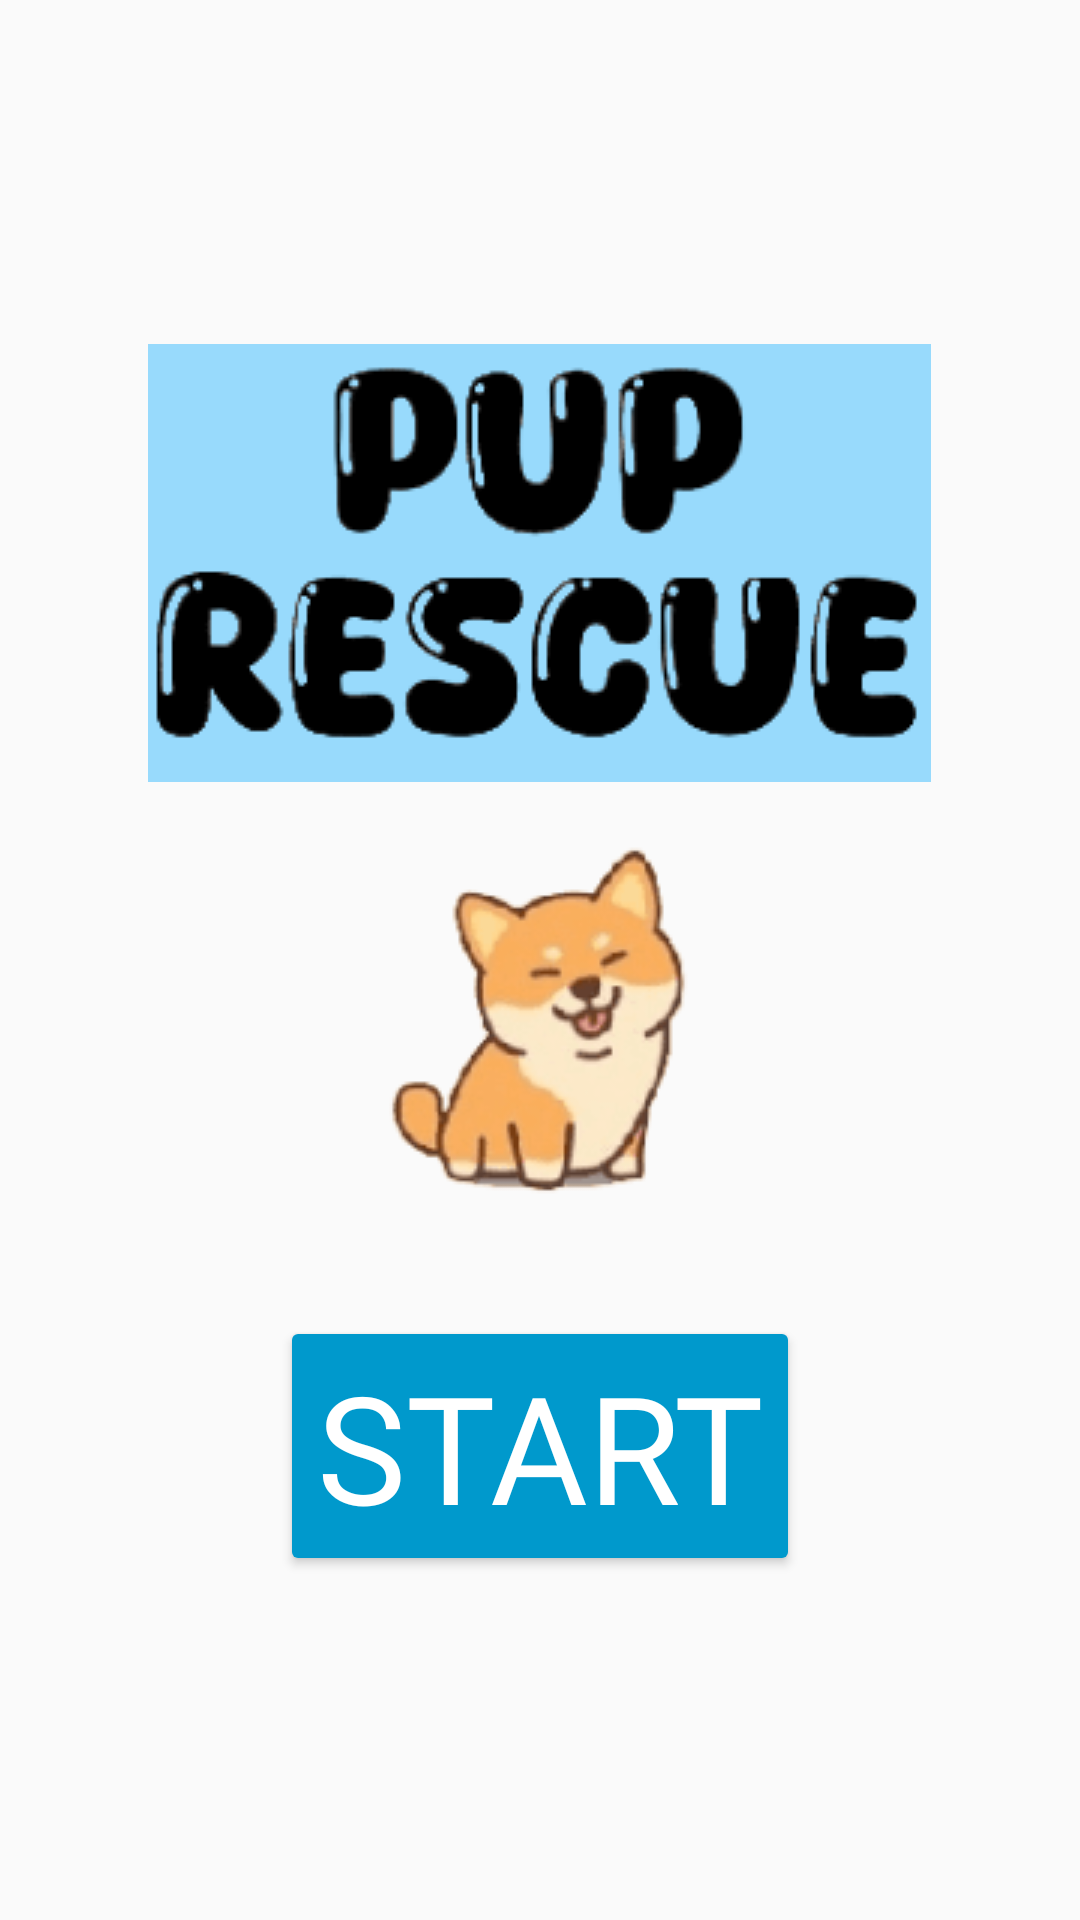

Named icons in this screenshot (1080×1920) and their centers, [x,y]:
shiba inu: [538,1020]
